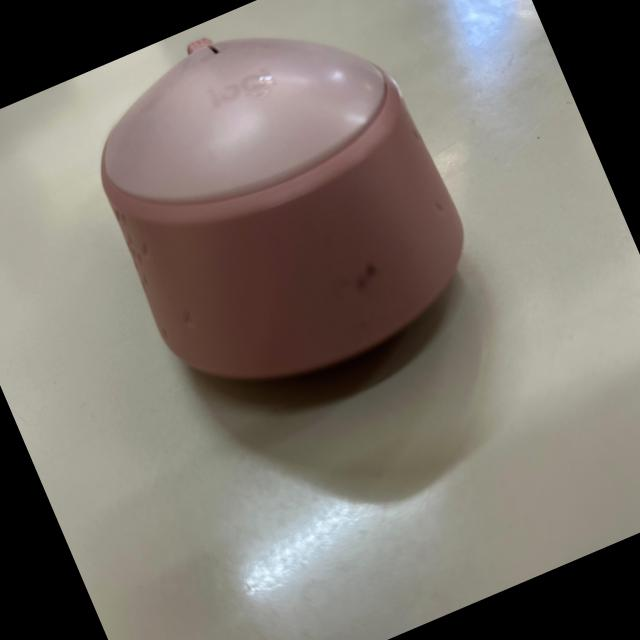inorganic: (59, 0, 493, 423)
